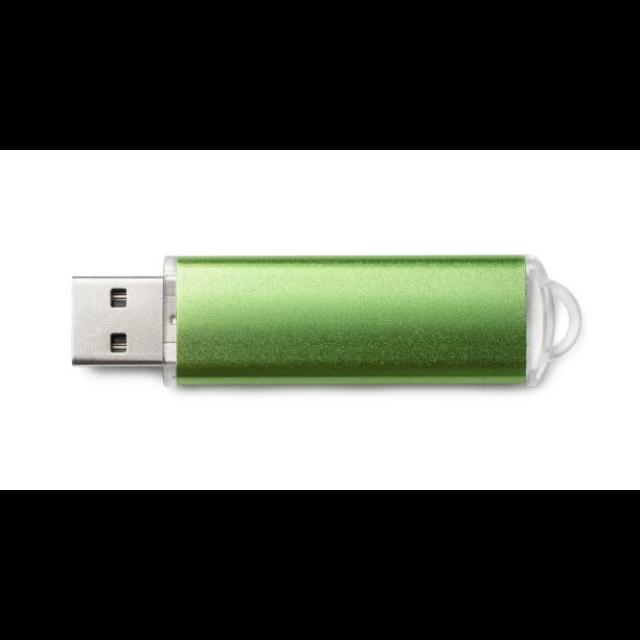USB-Flash-Drive: (70, 256, 531, 388)
